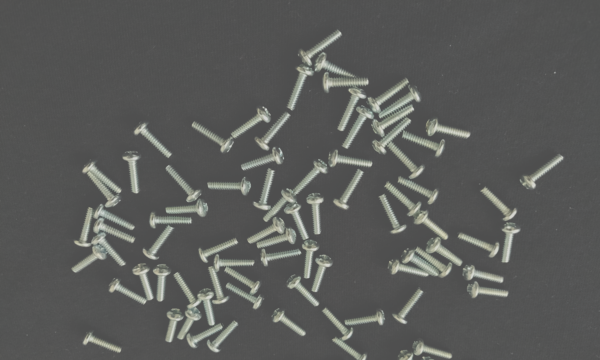shortscrew: (298, 28, 343, 67), (133, 119, 173, 159), (372, 117, 414, 155), (520, 155, 565, 190), (368, 77, 410, 114), (378, 84, 423, 118), (83, 158, 124, 195), (192, 119, 235, 154), (387, 142, 426, 180), (254, 112, 292, 151), (165, 164, 203, 203), (341, 106, 375, 149), (292, 158, 330, 196), (86, 170, 123, 209), (480, 184, 518, 221), (384, 181, 423, 217), (373, 104, 416, 136), (232, 106, 272, 140), (333, 169, 365, 211), (287, 64, 316, 110), (392, 286, 426, 325), (397, 176, 441, 206), (338, 87, 367, 132), (315, 53, 363, 80), (457, 229, 501, 258), (93, 217, 138, 245), (91, 232, 126, 268), (378, 193, 408, 234), (263, 188, 298, 223), (414, 248, 453, 279), (108, 276, 148, 306), (402, 131, 446, 158), (286, 274, 322, 307), (207, 318, 240, 354), (271, 306, 308, 338), (401, 248, 441, 277), (413, 209, 450, 240), (92, 204, 136, 230), (426, 237, 464, 267), (225, 283, 265, 311), (143, 225, 174, 261), (426, 116, 472, 140), (198, 238, 240, 264), (247, 217, 286, 245), (323, 306, 354, 341), (241, 146, 284, 171), (71, 245, 108, 274), (322, 72, 370, 94), (224, 268, 263, 295), (253, 168, 277, 211), (187, 323, 225, 350), (284, 200, 309, 241), (310, 253, 334, 293), (83, 330, 123, 354), (412, 338, 454, 360), (499, 223, 522, 263), (257, 226, 297, 249), (207, 266, 230, 305), (177, 307, 203, 341), (462, 264, 506, 284), (331, 337, 369, 360), (207, 177, 253, 196), (260, 247, 303, 267), (132, 262, 154, 301), (328, 149, 373, 168), (74, 208, 95, 248), (467, 280, 510, 299), (387, 259, 430, 278), (165, 199, 208, 218), (149, 210, 192, 229), (345, 308, 385, 328), (306, 193, 325, 235), (302, 240, 321, 280), (212, 255, 255, 272), (197, 287, 215, 327), (165, 307, 185, 343), (155, 263, 173, 302), (398, 348, 427, 360), (418, 356, 439, 360)
